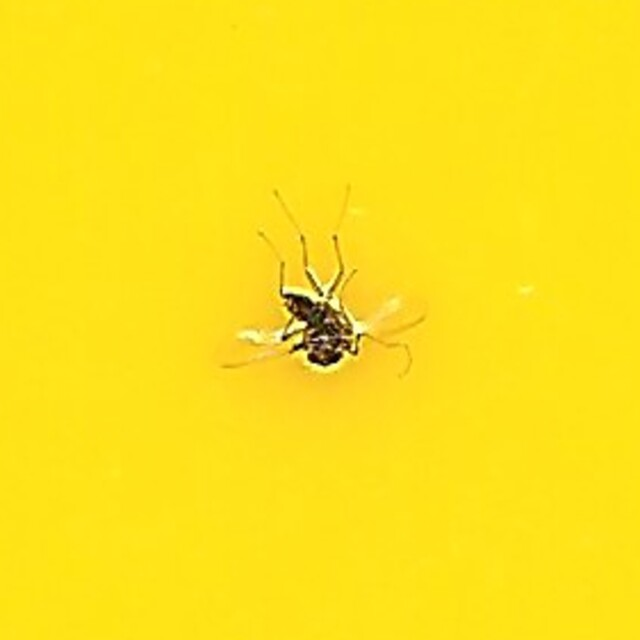Brachycera: (228, 247, 412, 393)
